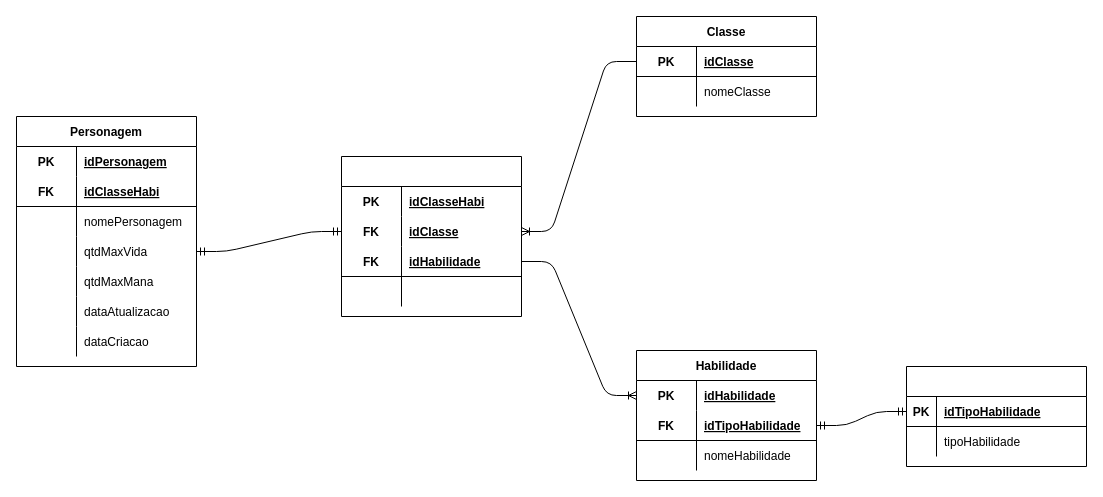
Some shapes in this 1103 by 497 pixel diagram are drawn without their labels. The shapes that lost their labels are listed below. From the top down, each one's box as (x1, y1, x2, y2) in pixels, then its label:
(340, 156, 522, 316): Classe-Habilidade
(906, 366, 1086, 466): Tipo de Habilidade
